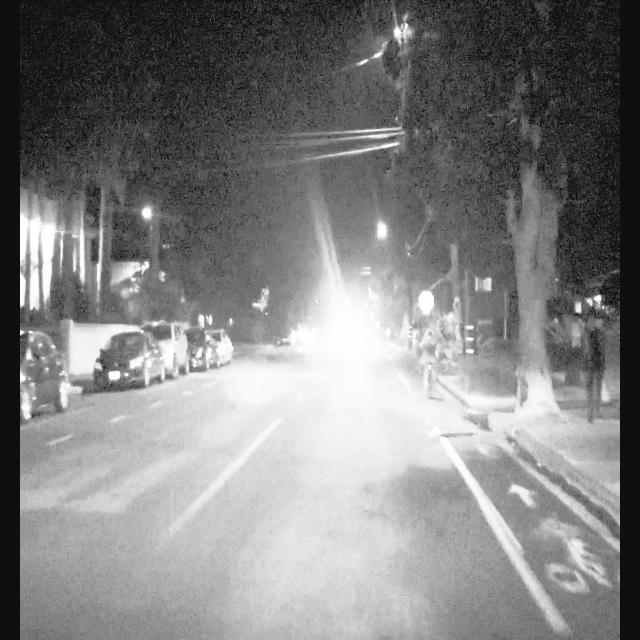Tree: (505, 101, 570, 427)
